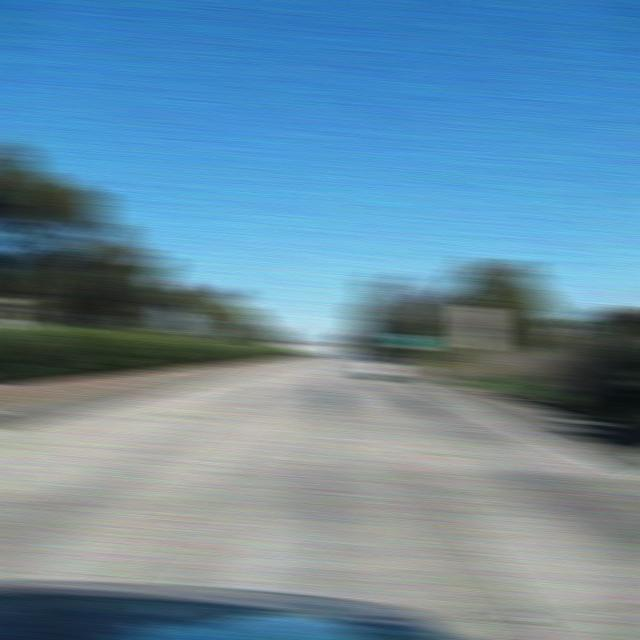speedLimit65: (459, 303, 496, 338)
